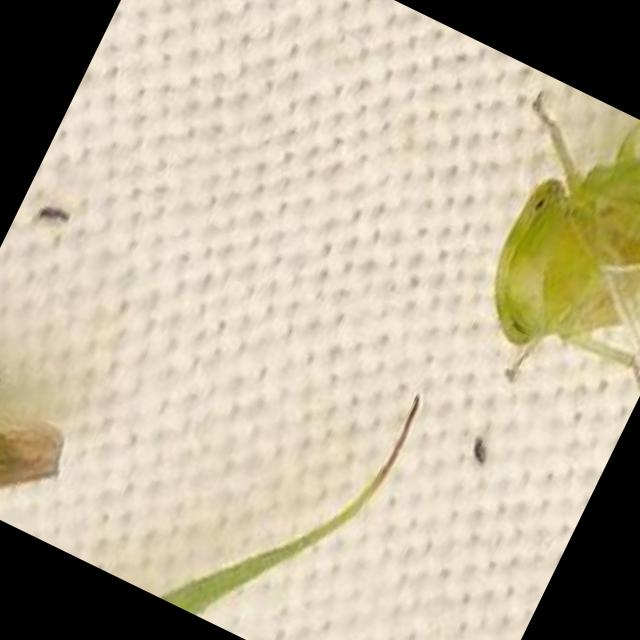green-leafhopper: (442, 84, 640, 425)
